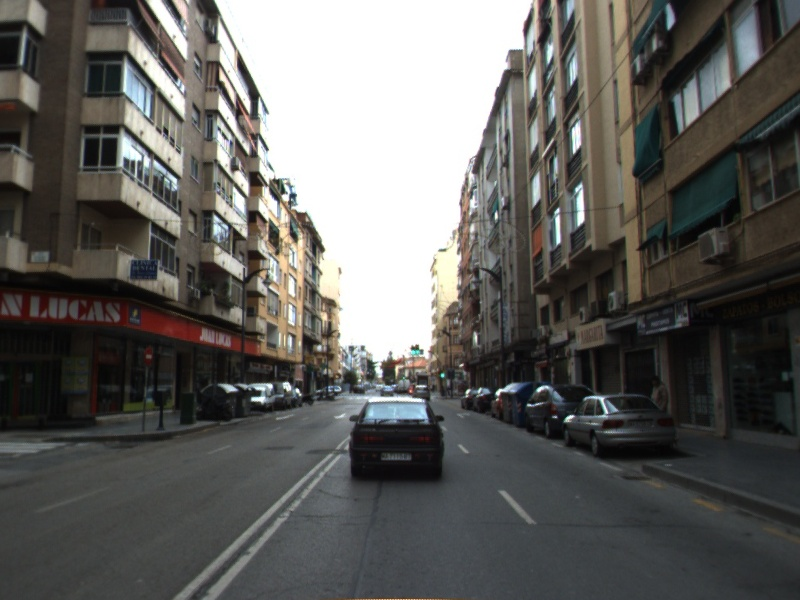RIGHT: (455, 410, 472, 420)
